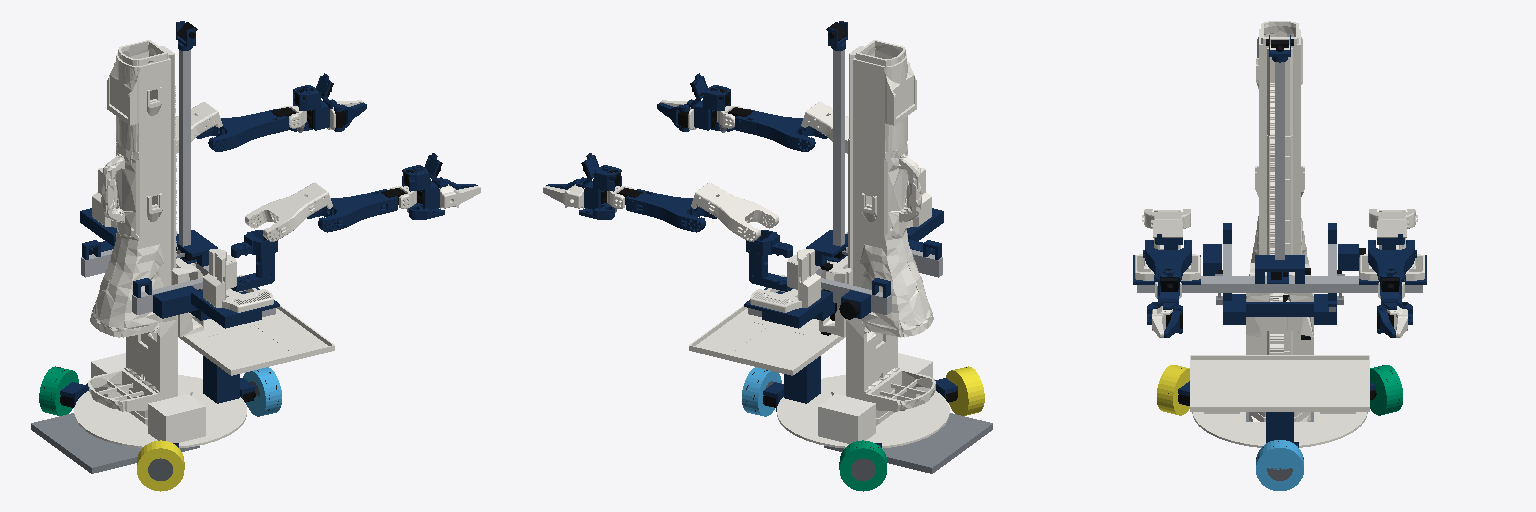
URDF robot description (faibotic_m1):
<?xml version="1.0"?>
<!-- Faibotic M1 v0.5 P-L. File sinh tự động bởi faibotic.model từ spec.py. Đế di động: base_link gắn sàn (đế omni xử lý ngoài URDF).
     Góc khớp theo quy ước SDK (spec.URDF_TO_SDK đổi từ góc URDF upstream AM-ARM200). -->
<robot name="faibotic_m1">
  <mujoco><compiler meshdir="assets" discardvisual="true"/></mujoco>
  <material name="m1_ivory"><color rgba="0.945098 0.937255 0.909804 1"/></material><material name="m1_ivory_hi"><color rgba="0.964706 0.960784 0.945098 1"/></material><material name="m1_navy"><color rgba="0.117647 0.227451 0.372549 1"/></material><material name="m1_alu"><color rgba="0.701961 0.717647 0.741176 1"/></material><material name="m1_steel"><color rgba="0.552941 0.576471 0.607843 1"/></material><material name="m1_servo"><color rgba="0.105882 0.113725 0.129412 1"/></material><material name="m1_servo_body"><color rgba="0.101961 0.101961 0.101961 1"/></material><material name="m1_pad"><color rgba="0.2 0.211765 0.239216 1"/></material><material name="m1_rubber"><color rgba="0.14902 0.156863 0.176471 1"/></material><material name="m1_hub"><color rgba="0.427451 0.447059 0.478431 1"/></material>
  <link name="base_link"><inertial><origin xyz="-0.0378199 0 0.15"/><mass value="13.6"/><inertia ixx="0.0907" iyy="0.0907" izz="0.0907" ixy="0" ixz="0" iyz="0"/></inertial>
    
    <collision><origin xyz="0 0 0.0515"/><geometry><cylinder radius="0.185" length="0.025"/></geometry></collision>
    
    <collision><origin xyz="-0.0625 0 0.03175"/><geometry><box size="0.365 0.26 0.0145"/></geometry></collision>
    
    <collision><origin xyz="0.192 0 0.2058"/><geometry><box size="0.256 0.38 0.0284"/></geometry></collision>
    
    <collision><origin xyz="-0.058425 0 0.493415"/><geometry><box size="0.16891 0.10222 0.85883"/></geometry></collision>
  <visual><geometry><mesh filename="assets/base__alu.stl"/></geometry><material name="m1_alu"/></visual><visual><geometry><mesh filename="assets/base__hub.stl"/></geometry><material name="m1_hub"/></visual><visual><geometry><mesh filename="assets/base__ivory.stl"/></geometry><material name="m1_ivory"/></visual><visual><geometry><mesh filename="assets/base__ivory_hi.stl"/></geometry><material name="m1_ivory_hi"/></visual><visual><geometry><mesh filename="assets/base__navy.stl"/></geometry><material name="m1_navy"/></visual><visual><geometry><mesh filename="assets/base__rubber.stl"/></geometry><material name="m1_rubber"/></visual><visual><geometry><mesh filename="assets/base__servo_body.stl"/></geometry><material name="m1_servo_body"/></visual><visual><geometry><mesh filename="assets/base__steel.stl"/></geometry><material name="m1_steel"/></visual></link>
  <link name="wheel_0"><inertial><origin xyz="0 0 0"/><mass value="0.2"/><inertia ixx="3e-05" iyy="3e-05" izz="3e-05" ixy="0" ixz="0" iyz="0"/></inertial><visual><geometry><cylinder radius="0.0508" length="0.04"/></geometry></visual></link>
  <link name="wheel_1"><inertial><origin xyz="0 0 0"/><mass value="0.2"/><inertia ixx="3e-05" iyy="3e-05" izz="3e-05" ixy="0" ixz="0" iyz="0"/></inertial><visual><geometry><cylinder radius="0.0508" length="0.04"/></geometry></visual></link>
  <link name="wheel_2"><inertial><origin xyz="0 0 0"/><mass value="0.2"/><inertia ixx="3e-05" iyy="3e-05" izz="3e-05" ixy="0" ixz="0" iyz="0"/></inertial><visual><geometry><cylinder radius="0.0508" length="0.04"/></geometry></visual></link>
  <link name="carriage"><inertial><origin xyz="0 0 0"/><mass value="4.024"/><inertia ixx="0.0151" iyy="0.0151" izz="0.0151" ixy="0" ixz="0" iyz="0"/></inertial>
    
    <collision><origin xyz="0.0919 0 -0.017"/><geometry><box size="0.04 0.6 0.02"/></geometry></collision><visual><geometry><mesh filename="assets/carriage__alu.stl"/></geometry><material name="m1_alu"/></visual><visual><geometry><mesh filename="assets/carriage__ivory.stl"/></geometry><material name="m1_ivory"/></visual><visual><geometry><mesh filename="assets/carriage__navy.stl"/></geometry><material name="m1_navy"/></visual><visual><geometry><mesh filename="assets/carriage__servo.stl"/></geometry><material name="m1_servo"/></visual><visual><geometry><mesh filename="assets/carriage__servo_body.stl"/></geometry><material name="m1_servo_body"/></visual><visual><geometry><mesh filename="assets/carriage__steel.stl"/></geometry><material name="m1_steel"/></visual><visual><geometry><mesh filename="assets/left_carriage__ivory.stl"/></geometry><material name="m1_ivory"/></visual><visual><geometry><mesh filename="assets/right_carriage__ivory.stl"/></geometry><material name="m1_ivory"/></visual></link>
  <link name="left_shoulder"><inertial><origin xyz="0.050178 -0.000423686 0.116039"/><mass value="0.35786"/><inertia ixx="0.000678107" iyy="0.000778286" izz="0.00018047" ixy="-2.08263e-06" ixz="-0.000105622" iyz="-1.09368e-05"/></inertial><collision><origin xyz="0.03 0 0.105"/><geometry><box size="0.07 0.08 0.09"/></geometry></collision><visual><geometry><mesh filename="assets/left_shoulder__navy.stl"/></geometry><material name="m1_navy"/></visual></link>
  <link name="left_upper"><inertial><origin xyz="0.094747 1.64447e-05 0.00929123"/><mass value="0.48136"/><inertia ixx="0.000329199" iyy="0.00106399" izz="0.00115731" ixy="-9.36646e-07" ixz="-1.20899e-05" iyz="-6.44625e-07"/></inertial><collision><origin xyz="0.064955 0 0.012" rpy="0 1.5708 0"/><geometry><cylinder radius="0.026" length="0.06991"/></geometry></collision><visual><geometry><mesh filename="assets/left_upper__ivory.stl"/></geometry><material name="m1_ivory"/></visual></link>
  <link name="left_fore"><inertial><origin xyz="0.104447 -0.00215722 -0.00356737"/><mass value="0.37056"/><inertia ixx="0.00022416" iyy="0.00147066" izz="0.0016301" ixy="-1.53267e-05" ixz="2.17585e-06" iyz="-5.35792e-07"/></inertial><collision><origin xyz="0.101705 0 -0.00158" rpy="0 1.59448 0"/><geometry><cylinder radius="0.022" length="0.1334"/></geometry></collision><visual><geometry><mesh filename="assets/left_fore__navy.stl"/></geometry><material name="m1_navy"/></visual><visual><geometry><mesh filename="assets/left_fore__servo_body.stl"/></geometry><material name="m1_servo_body"/></visual></link>
  <link name="left_wrist"><inertial><origin xyz="0.01479 -0.00273 0.00073"/><mass value="0.03045"/><inertia ixx="1.1295e-05" iyy="8.225e-06" izz="1.4509e-05" ixy="-5.07e-07" ixz="-2.43e-07" iyz="-1.6e-08"/></inertial><collision><origin xyz="0.016565 -0.00381 -0.00065" rpy="0 1.62694 0"/><geometry><cylinder radius="0.015" length="0.02317"/></geometry></collision><visual><geometry><mesh filename="assets/left_wrist__ivory.stl"/></geometry><material name="m1_ivory"/></visual></link>
  <link name="left_yaw"><inertial><origin xyz="0.0288148 -8.05525e-05 0.00799249"/><mass value="0.25521"/><inertia ixx="0.000214543" iyy="0.000246835" izz="9.81605e-05" ixy="3.53029e-09" ixz="7.68304e-05" iyz="8.64788e-08"/></inertial><collision><origin xyz="0.02543 0 -0.01036" rpy="0 2.03036 0"/><geometry><cylinder radius="0.02" length="0.05257"/></geometry></collision><visual><geometry><mesh filename="assets/left_yaw__navy.stl"/></geometry><material name="m1_navy"/></visual><visual><geometry><mesh filename="assets/left_yaw__servo_body.stl"/></geometry><material name="m1_servo_body"/></visual><visual><geometry><mesh filename="assets/left_yaw__steel.stl"/></geometry><material name="m1_steel"/></visual></link>
  <link name="left_hand"><inertial><origin xyz="0.0200643 0.00180399 0.0136616"/><mass value="0.16985"/><inertia ixx="0.000151358" iyy="0.000173391" izz="9.51441e-05" ixy="-1.35655e-05" ixz="3.13269e-05" iyz="-1.12642e-06"/></inertial><collision><origin xyz="0.029615 0.00251 -0.001945"/><geometry><box size="0.06477 0.06522 0.05201"/></geometry></collision><collision><origin xyz="0.087 0.018855 8e-05"/><geometry><box size="0.034 0.01771 0.01942"/></geometry></collision><visual><geometry><mesh filename="assets/left_hand__ivory.stl"/></geometry><material name="m1_ivory"/></visual><visual><geometry><mesh filename="assets/left_hand__navy.stl"/></geometry><material name="m1_navy"/></visual><visual><geometry><mesh filename="assets/left_hand__servo.stl"/></geometry><material name="m1_servo"/></visual><visual><geometry><mesh filename="assets/left_hand__servo_body.stl"/></geometry><material name="m1_servo_body"/></visual></link>
  <link name="left_jaw"><inertial><origin xyz="0.03073 0.00893 0.00157"/><mass value="0.02816"/><inertia ixx="6.801e-06" iyy="1.8295e-05" izz="1.517e-05" ixy="-3.995e-06" ixz="-5e-09" iyz="-3e-09"/></inertial><collision><origin xyz="0.0661741 0.0189105 0.001578" rpy="0 0 0.319081"/><geometry><box size="0.034264 0.012049 0.01925"/></geometry></collision><visual><geometry><mesh filename="assets/left_jaw__navy.stl"/></geometry><material name="m1_navy"/></visual></link>
  <link name="left_tcp"/>
  <link name="right_shoulder"><inertial><origin xyz="0.050178 0.000423686 0.116039"/><mass value="0.35786"/><inertia ixx="0.000678107" iyy="0.000778286" izz="0.00018047" ixy="2.08263e-06" ixz="-0.000105622" iyz="1.09368e-05"/></inertial><collision><origin xyz="0.03 0 0.105"/><geometry><box size="0.07 0.08 0.09"/></geometry></collision><visual><geometry><mesh filename="assets/right_shoulder__navy.stl"/></geometry><material name="m1_navy"/></visual></link>
  <link name="right_upper"><inertial><origin xyz="0.094747 -1.64447e-05 0.00929123"/><mass value="0.48136"/><inertia ixx="0.000329199" iyy="0.00106399" izz="0.00115731" ixy="9.36646e-07" ixz="-1.20899e-05" iyz="6.44625e-07"/></inertial><collision><origin xyz="0.064955 0 0.012" rpy="0 1.5708 0"/><geometry><cylinder radius="0.026" length="0.06991"/></geometry></collision><visual><geometry><mesh filename="assets/right_upper__ivory.stl"/></geometry><material name="m1_ivory"/></visual></link>
  <link name="right_fore"><inertial><origin xyz="0.104447 0.00215722 -0.00356737"/><mass value="0.37056"/><inertia ixx="0.00022416" iyy="0.00147066" izz="0.0016301" ixy="1.53267e-05" ixz="2.17585e-06" iyz="5.35792e-07"/></inertial><collision><origin xyz="0.101705 0 -0.00158" rpy="0 1.59448 0"/><geometry><cylinder radius="0.022" length="0.1334"/></geometry></collision><visual><geometry><mesh filename="assets/right_fore__navy.stl"/></geometry><material name="m1_navy"/></visual><visual><geometry><mesh filename="assets/right_fore__servo_body.stl"/></geometry><material name="m1_servo_body"/></visual></link>
  <link name="right_wrist"><inertial><origin xyz="0.01479 0.00273 0.00073"/><mass value="0.03045"/><inertia ixx="1.1295e-05" iyy="8.225e-06" izz="1.4509e-05" ixy="5.07e-07" ixz="-2.43e-07" iyz="1.6e-08"/></inertial><collision><origin xyz="0.016565 0.00381 -0.00065" rpy="0 1.62694 0"/><geometry><cylinder radius="0.015" length="0.02317"/></geometry></collision><visual><geometry><mesh filename="assets/right_wrist__ivory.stl"/></geometry><material name="m1_ivory"/></visual></link>
  <link name="right_yaw"><inertial><origin xyz="0.0288148 8.05525e-05 0.00799249"/><mass value="0.25521"/><inertia ixx="0.000214543" iyy="0.000246835" izz="9.81605e-05" ixy="-3.53029e-09" ixz="7.68304e-05" iyz="-8.64788e-08"/></inertial><collision><origin xyz="0.02543 0 -0.01036" rpy="0 2.03036 0"/><geometry><cylinder radius="0.02" length="0.05257"/></geometry></collision><visual><geometry><mesh filename="assets/right_yaw__navy.stl"/></geometry><material name="m1_navy"/></visual><visual><geometry><mesh filename="assets/right_yaw__servo_body.stl"/></geometry><material name="m1_servo_body"/></visual><visual><geometry><mesh filename="assets/right_yaw__steel.stl"/></geometry><material name="m1_steel"/></visual></link>
  <link name="right_hand"><inertial><origin xyz="0.0200643 -0.00180399 0.0136616"/><mass value="0.16985"/><inertia ixx="0.000151358" iyy="0.000173391" izz="9.51441e-05" ixy="1.35655e-05" ixz="3.13269e-05" iyz="1.12642e-06"/></inertial><collision><origin xyz="0.029615 -0.00251 -0.001945"/><geometry><box size="0.06477 0.06522 0.05201"/></geometry></collision><collision><origin xyz="0.087 -0.018855 8e-05"/><geometry><box size="0.034 0.01771 0.01942"/></geometry></collision><visual><geometry><mesh filename="assets/right_hand__ivory.stl"/></geometry><material name="m1_ivory"/></visual><visual><geometry><mesh filename="assets/right_hand__navy.stl"/></geometry><material name="m1_navy"/></visual><visual><geometry><mesh filename="assets/right_hand__servo.stl"/></geometry><material name="m1_servo"/></visual><visual><geometry><mesh filename="assets/right_hand__servo_body.stl"/></geometry><material name="m1_servo_body"/></visual></link>
  <link name="right_jaw"><inertial><origin xyz="0.03073 -0.00893 0.00157"/><mass value="0.02816"/><inertia ixx="6.801e-06" iyy="1.8295e-05" izz="1.517e-05" ixy="3.995e-06" ixz="-5e-09" iyz="3e-09"/></inertial><collision><origin xyz="0.0661741 -0.0189105 0.001578" rpy="0 0 -0.319081"/><geometry><box size="0.034264 0.012049 0.01925"/></geometry></collision><visual><geometry><mesh filename="assets/right_jaw__navy.stl"/></geometry><material name="m1_navy"/></visual></link>
  <link name="right_tcp"/>
  <joint name="wheel_0" type="continuous"><parent link="base_link"/><child link="wheel_0"/>
    <origin xyz="0.25 0 0.0508" rpy="0 1.5708 0"/><axis xyz="0 0 1"/></joint>
  <joint name="wheel_1" type="continuous"><parent link="base_link"/><child link="wheel_1"/>
    <origin xyz="-0.125 0.216506 0.0508" rpy="0 1.5708 2.0944"/><axis xyz="0 0 1"/></joint>
  <joint name="wheel_2" type="continuous"><parent link="base_link"/><child link="wheel_2"/>
    <origin xyz="-0.125 -0.216506 0.0508" rpy="0 1.5708 4.18879"/><axis xyz="0 0 1"/></joint>
  <joint name="lift" type="prismatic"><parent link="base_link"/><child link="carriage"/>
    <origin xyz="0 0 0.413696"/><axis xyz="0 0 1"/><limit lower="0.0" upper="0.45" effort="600" velocity="0.2"/></joint>
  <joint name="left_pan" type="revolute"><parent link="carriage"/><child link="left_shoulder"/>
    <origin xyz="0.0599 0.2375 0"/><axis xyz="0 0 1"/><limit lower="-1.22173" upper="1.22173" effort="4.658" velocity="3.0"/></joint>
  <joint name="left_shoulder" type="revolute"><parent link="left_shoulder"/><child link="left_upper"/>
    <origin xyz="0.05799 0 0.14823"/><axis xyz="0 1 0"/><limit lower="-1.39626" upper="0.846485" effort="5.59" velocity="3.0"/></joint>
  <joint name="left_elbow" type="revolute"><parent link="left_upper"/><child link="left_fore"/>
    <origin xyz="0.13491 0 0"/><axis xyz="0 1 0"/><limit lower="-0.174533" upper="2.21657" effort="5.59" velocity="3.0"/></joint>
  <joint name="left_wrist_flex" type="revolute"><parent link="left_fore"/><child link="left_wrist"/>
    <origin xyz="0.19841 0 -0.00316"/><axis xyz="0 1 0"/><limit lower="-1.35263" upper="1.52716" effort="1.765" velocity="3.0"/></joint>
  <joint name="left_wrist_yaw" type="revolute"><parent link="left_wrist"/><child link="left_yaw"/>
    <origin xyz="0.02813 -0.00381 -0.0013"/><axis xyz="0 0 1"/><limit lower="-1.41372" upper="1.39626" effort="2.354" velocity="3.0"/></joint>
  <joint name="left_wrist_roll" type="revolute"><parent link="left_yaw"/><child link="left_hand"/>
    <origin xyz="0.06099 0 -0.02202"/><axis xyz="1 0 0"/><limit lower="-2.79253" upper="2.79253" effort="1.471" velocity="3.0"/></joint>
  <joint name="left_gripper" type="revolute"><parent link="left_hand"/><child link="left_jaw"/>
    <origin xyz="0.02161 -0.02021 -0.00203"/><axis xyz="0 0 -1"/><limit lower="0" upper="1.11701" effort="1.471" velocity="5.0"/></joint>
  <joint name="left_tcp_fixed" type="fixed"><parent link="left_hand"/><child link="left_tcp"/><origin xyz="0.09382 0.01013 -0.00016"/></joint>
  <joint name="right_pan" type="revolute"><parent link="carriage"/><child link="right_shoulder"/>
    <origin xyz="0.0599 -0.2375 0"/><axis xyz="0 0 1"/><limit lower="-1.22173" upper="1.22173" effort="4.658" velocity="3.0"/></joint>
  <joint name="right_shoulder" type="revolute"><parent link="right_shoulder"/><child link="right_upper"/>
    <origin xyz="0.05799 0 0.14823"/><axis xyz="0 1 0"/><limit lower="-1.39626" upper="0.846485" effort="5.59" velocity="3.0"/></joint>
  <joint name="right_elbow" type="revolute"><parent link="right_upper"/><child link="right_fore"/>
    <origin xyz="0.13491 0 0"/><axis xyz="0 1 0"/><limit lower="-0.174533" upper="2.21657" effort="5.59" velocity="3.0"/></joint>
  <joint name="right_wrist_flex" type="revolute"><parent link="right_fore"/><child link="right_wrist"/>
    <origin xyz="0.19841 0 -0.00316"/><axis xyz="0 1 0"/><limit lower="-1.35263" upper="1.52716" effort="1.765" velocity="3.0"/></joint>
  <joint name="right_wrist_yaw" type="revolute"><parent link="right_wrist"/><child link="right_yaw"/>
    <origin xyz="0.02813 0.00381 -0.0013"/><axis xyz="0 0 1"/><limit lower="-1.41372" upper="1.39626" effort="2.354" velocity="3.0"/></joint>
  <joint name="right_wrist_roll" type="revolute"><parent link="right_yaw"/><child link="right_hand"/>
    <origin xyz="0.06099 0 -0.02202"/><axis xyz="1 0 0"/><limit lower="-2.79253" upper="2.79253" effort="1.471" velocity="3.0"/></joint>
  <joint name="right_gripper" type="revolute"><parent link="right_hand"/><child link="right_jaw"/>
    <origin xyz="0.02161 0.02021 -0.00203"/><axis xyz="0 0 1"/><limit lower="0" upper="1.11701" effort="1.471" velocity="5.0"/></joint>
  <joint name="right_tcp_fixed" type="fixed"><parent link="right_hand"/><child link="right_tcp"/><origin xyz="0.09382 -0.01013 -0.00016"/></joint>
</robot>

--- Render facts (derived) ---
Views: 3 orthographic renders of the robot side by side, from view 1: azimuth 30°, elevation 25°; view 2: azimuth 150°, elevation 25°; view 3: azimuth 270°, elevation 25°.
Robot: faibotic_m1 — 21 links, 20 joints (14 revolute, 3 continuous, 1 prismatic, 2 fixed); root link base_link; default pose: all joints at 0.
Links seen in each view (by area): view 1: base_link, carriage, right_upper, left_fore, right_fore, right_shoulder, wheel_2, right_yaw, wheel_0, wheel_1, left_yaw, right_hand (+2 smaller); view 2: base_link, carriage, left_upper, right_fore, left_fore, left_shoulder, wheel_1, left_yaw, wheel_2, right_yaw, wheel_0, left_hand (+2 smaller); view 3: base_link, carriage, wheel_0, wheel_1, wheel_2, left_fore, right_fore, left_hand, right_hand, left_upper, right_upper.
Boxes of the visible links, x1=… form: base_link: x1=31, y1=40, x2=334, y2=480; carriage: x1=80, y1=21, x2=279, y2=336; right_upper: x1=245, y1=182, x2=332, y2=241; left_fore: x1=196, y1=107, x2=295, y2=151; right_fore: x1=307, y1=188, x2=406, y2=232; right_shoulder: x1=231, y1=230, x2=277, y2=291; wheel_2: x1=137, y1=440, x2=184, y2=491; right_yaw: x1=402, y1=165, x2=444, y2=219; wheel_0: x1=243, y1=367, x2=281, y2=416; wheel_1: x1=39, y1=366, x2=78, y2=415; left_yaw: x1=289, y1=85, x2=329, y2=132; right_hand: x1=424, y1=153, x2=480, y2=208; base_link: x1=689, y1=40, x2=992, y2=480; carriage: x1=744, y1=21, x2=943, y2=336; left_upper: x1=691, y1=182, x2=778, y2=241; right_fore: x1=728, y1=107, x2=827, y2=151; left_fore: x1=617, y1=188, x2=716, y2=232; left_shoulder: x1=746, y1=230, x2=792, y2=291; wheel_1: x1=839, y1=440, x2=886, y2=491; left_yaw: x1=579, y1=165, x2=621, y2=219; wheel_2: x1=946, y1=366, x2=984, y2=415; right_yaw: x1=694, y1=85, x2=734, y2=132; wheel_0: x1=742, y1=367, x2=781, y2=416; left_hand: x1=543, y1=153, x2=599, y2=208; base_link: x1=1168, y1=21, x2=1399, y2=480; carriage: x1=1133, y1=35, x2=1426, y2=339; wheel_0: x1=1256, y1=440, x2=1303, y2=490; wheel_1: x1=1370, y1=365, x2=1402, y2=415; wheel_2: x1=1157, y1=365, x2=1189, y2=415; left_fore: x1=1368, y1=240, x2=1416, y2=282; right_fore: x1=1143, y1=240, x2=1191, y2=282; left_hand: x1=1377, y1=271, x2=1407, y2=337; right_hand: x1=1152, y1=271, x2=1182, y2=337; left_upper: x1=1369, y1=209, x2=1417, y2=237; right_upper: x1=1142, y1=209, x2=1190, y2=237.
Bounding box of the posed robot: 0.8893 × 0.619 × 0.9557 m (x, y, z).
42 mesh visuals loaded from 42 distinct referenced files (42 binary STL).
